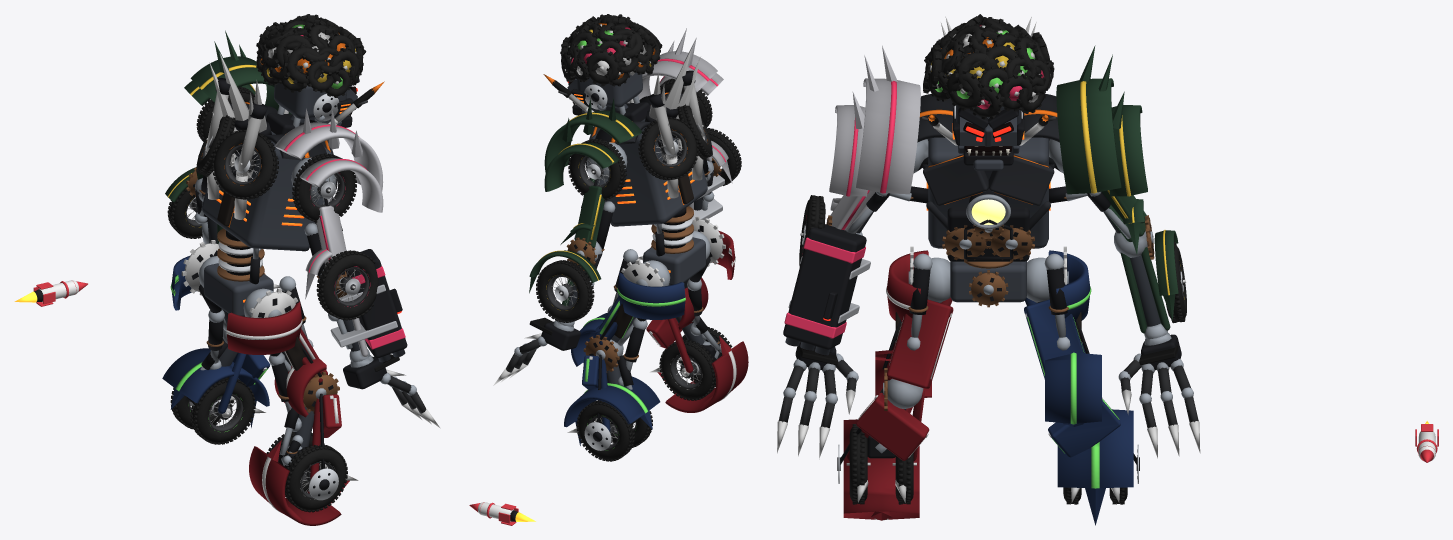
The model's file is boss.glb.
The picture shows the model from 3 angles, left to right: view 1: azimuth 30°, elevation 25°; view 2: azimuth 150°, elevation 25°; view 3: azimuth 270°, elevation 25°; orthographic projection. The views are drawn at different scales.
Parts seen in each view (by area): view 1: Boss_Chest, Boss_Bike_ArmR_Upper, Boss_Hair, Boss_Bike_LegR_Foot, Boss_Bike_LegL_Foot, Boss_Bike_Torso, Boss_Bike_LegR_Upper, Boss_Bike_ArmR_Lower, Boss_Pelvis, Boss_Launcher, Boss_Bike_ArmL_Upper, Boss_Bike_LegR_Lower (+14 smaller); view 2: Boss_Chest, Boss_Bike_ArmL_Upper, Boss_Hair, Boss_Bike_LegL_Foot, Boss_Bike_LegR_Foot, Boss_Bike_Torso, Boss_Bike_LegL_Upper, Boss_Bike_ArmL_Lower, Boss_Pelvis, Boss_Bike_ArmR_Upper, Boss_Head, Boss_Bike_LegL_Lower (+15 smaller); view 3: Boss_Bike_ArmR_Upper, Boss_Hair, Boss_Bike_ArmL_Upper, Boss_Chest, Boss_Bike_Torso, Boss_Launcher, Boss_Bike_LegL_Lower, Boss_Bike_LegR_Foot, Boss_Bike_LegR_Upper, Boss_Bike_LegL_Foot, Boss_Bike_ArmL_Lower, Boss_Bike_LegL_Upper (+20 smaller).
Boxes of the visible parts, left/top/right/bottom form: Boss_Chest: left=202, top=53, right=336, bottom=251; Boss_Bike_ArmR_Upper: left=274, top=108, right=383, bottom=266; Boss_Hair: left=256, top=14, right=366, bottom=97; Boss_Bike_LegR_Foot: left=249, top=431, right=349, bottom=525; Boss_Bike_LegL_Foot: left=162, top=348, right=269, bottom=444; Boss_Bike_Torso: left=196, top=81, right=384, bottom=227; Boss_Bike_LegR_Upper: left=226, top=288, right=327, bottom=382; Boss_Bike_ArmR_Lower: left=305, top=249, right=378, bottom=356; Boss_Pelvis: left=204, top=228, right=273, bottom=316; Boss_Launcher: left=330, top=249, right=407, bottom=362; Boss_Bike_ArmL_Upper: left=184, top=30, right=291, bottom=179; Boss_Bike_LegR_Lower: left=274, top=358, right=341, bottom=478; Boss_Chest: left=586, top=48, right=707, bottom=226; Boss_Bike_ArmL_Upper: left=544, top=98, right=641, bottom=254; Boss_Hair: left=560, top=14, right=662, bottom=86; Boss_Bike_LegL_Foot: left=564, top=376, right=660, bottom=461; Boss_Bike_LegR_Foot: left=657, top=327, right=748, bottom=412; Boss_Bike_Torso: left=543, top=74, right=712, bottom=204; Boss_Bike_LegL_Upper: left=594, top=260, right=685, bottom=344; Boss_Bike_ArmL_Lower: left=529, top=223, right=601, bottom=322; Boss_Pelvis: left=643, top=206, right=705, bottom=285; Boss_Bike_ArmR_Upper: left=627, top=28, right=723, bottom=162; Boss_Head: left=567, top=71, right=642, bottom=109; Boss_Bike_LegL_Lower: left=571, top=313, right=610, bottom=431; Boss_Bike_ArmR_Upper: left=827, top=45, right=920, bottom=233; Boss_Hair: left=923, top=14, right=1054, bottom=119; Boss_Bike_ArmL_Upper: left=1056, top=45, right=1153, bottom=241; Boss_Chest: left=913, top=16, right=1063, bottom=261; Boss_Bike_Torso: left=917, top=94, right=1059, bottom=230; Boss_Launcher: left=783, top=224, right=870, bottom=355; Boss_Bike_LegL_Lower: left=1045, top=352, right=1136, bottom=464; Boss_Bike_LegR_Foot: left=837, top=419, right=919, bottom=520; Boss_Bike_LegR_Upper: left=882, top=246, right=953, bottom=388; Boss_Bike_LegL_Foot: left=1057, top=409, right=1139, bottom=525; Boss_Bike_ArmL_Lower: left=1120, top=199, right=1186, bottom=333; Boss_Bike_LegL_Upper: left=1024, top=246, right=1091, bottom=379.
Bounding box in the file's own units: 3.93 × 10.43 × 12.08.
